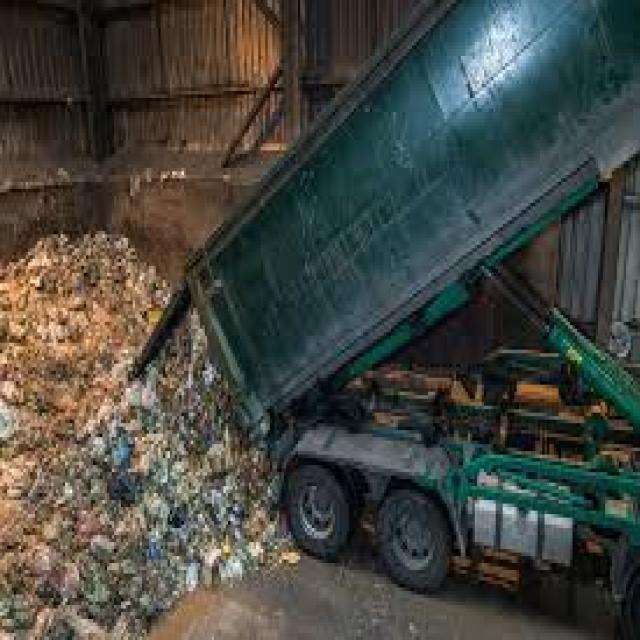Organik: (0, 219, 211, 640)
